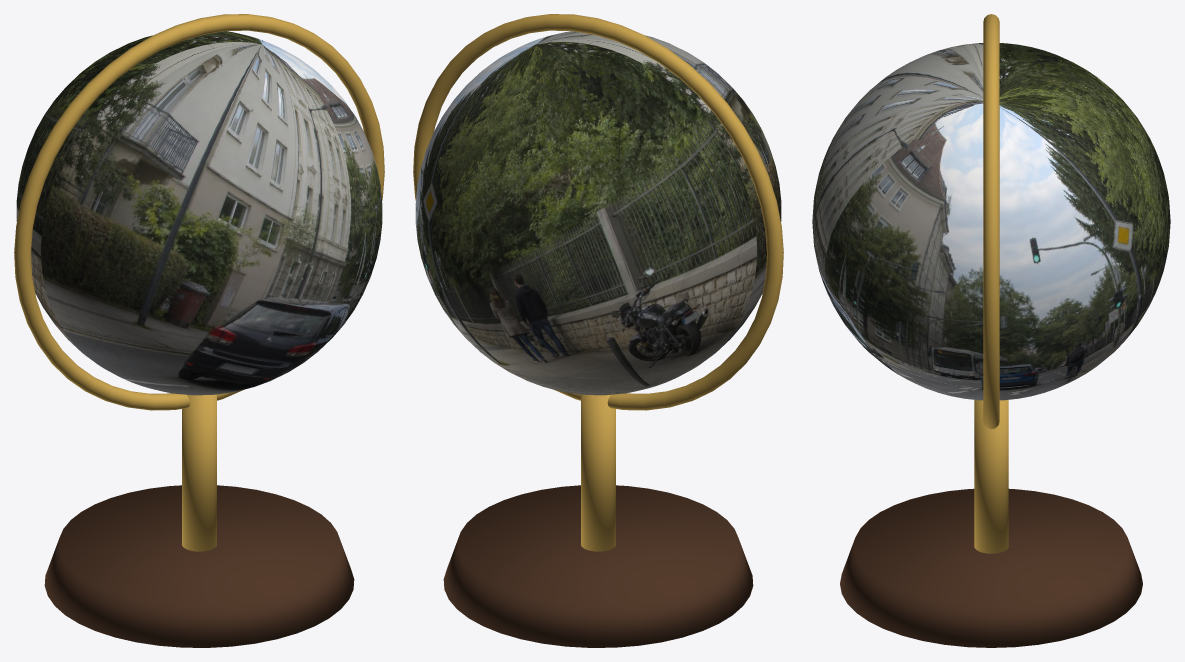
The model's file is globe.glb.
3 views of the same model, side by side, from view 1: azimuth 30°, elevation 25°; view 2: azimuth 150°, elevation 25°; view 3: azimuth 270°, elevation 25° (orthographic). The views are drawn at different scales.
Parts seen in each view (by area): view 1: globe, base, meridian, stem; view 2: globe, base, meridian, stem; view 3: globe, base, meridian, stem.
Boxes of the visible parts, x1,y1,x2,y2 form: globe: [16, 31, 382, 395]; base: [44, 485, 354, 647]; meridian: [14, 14, 384, 410]; stem: [182, 394, 216, 551]; globe: [415, 31, 781, 395]; base: [443, 485, 753, 647]; meridian: [413, 14, 783, 410]; stem: [581, 394, 615, 551]; globe: [812, 43, 1170, 400]; base: [840, 488, 1142, 647]; meridian: [983, 14, 999, 429]; stem: [974, 400, 1008, 553].
Bounding box in the file's own units: 0.6039 × 0.882 × 0.52.
Materials: 3 (1 with a texture image).
